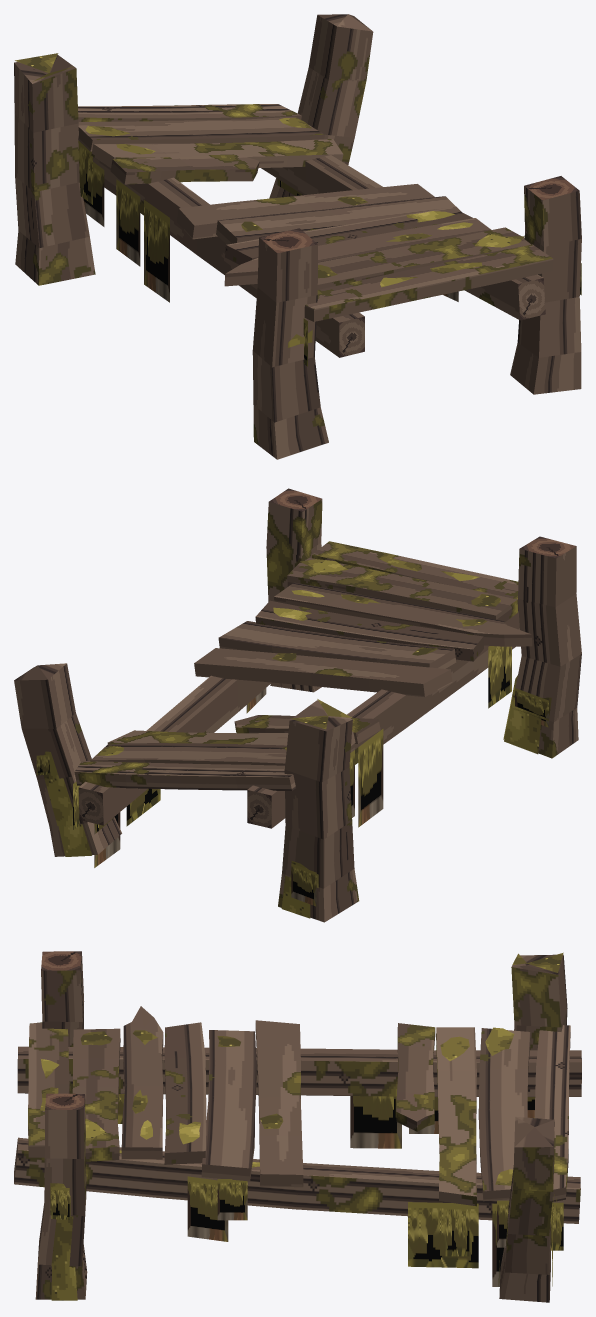
File: SM_SW14_RottenBoardwalkSagged.fbx
3 renders of one model, top to bottom at view 1: azimuth 30°, elevation 25°; view 2: azimuth 150°, elevation 25°; view 3: azimuth 270°, elevation 25°, orthographic. The views are drawn at different scales.
Parts seen in each view (by area): view 1: SW14b_Planks, SW14b_Plants, SW14b_Moss, SW14b_Props; view 2: SW14b_Planks, SW14b_Moss, SW14b_Plants, SW14b_Props; view 3: SW14b_Planks, SW14b_Plants, SW14b_Moss, SW14b_Props.
Boxes of the visible parts, <box> form: SW14b_Planks: <box>14,14,581,459</box>; SW14b_Plants: <box>78,140,581,366</box>; SW14b_Moss: <box>15,53,524,347</box>; SW14b_Props: <box>259,176,579,357</box>; SW14b_Planks: <box>14,499,581,922</box>; SW14b_Moss: <box>43,556,551,918</box>; SW14b_Plants: <box>36,646,548,906</box>; SW14b_Props: <box>78,488,576,828</box>; SW14b_Planks: <box>14,953,581,1302</box>; SW14b_Plants: <box>51,1094,563,1286</box>; SW14b_Moss: <box>40,952,563,1300</box>; SW14b_Props: <box>14,951,84,1182</box>.
Size of the model in its own units: 2.14 by 1.32 by 3.12.
